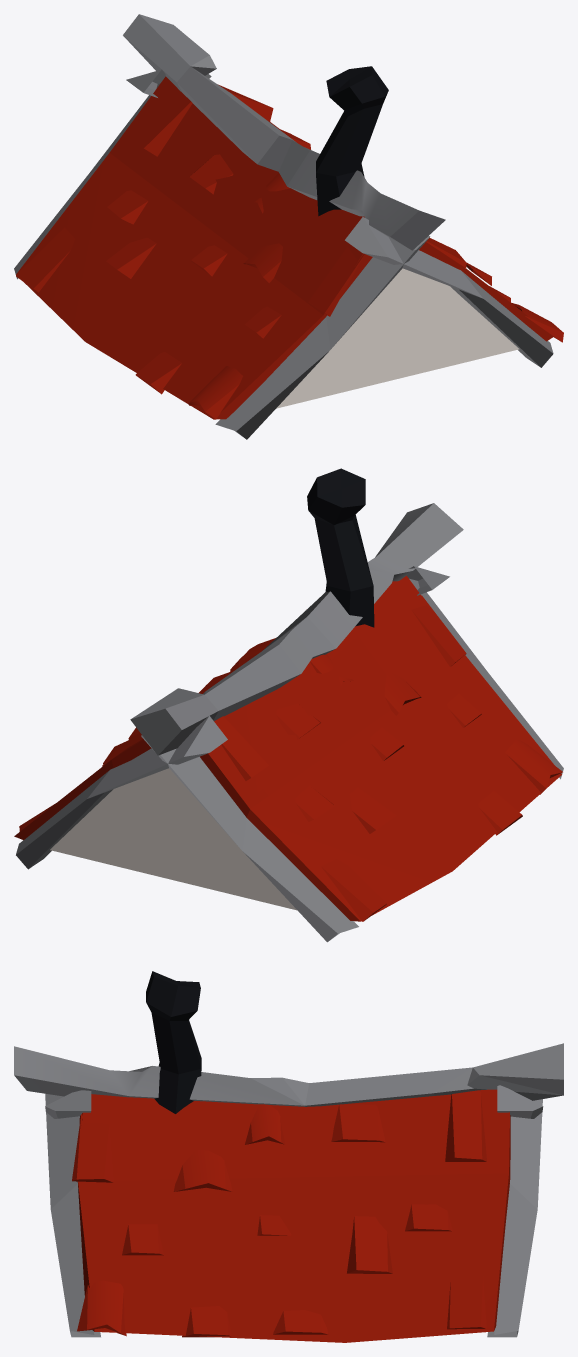
Rendered from SM_L_Modular_Roof_1.fbx.
3 views of the same model, one above another, from view 1: azimuth 30°, elevation 25°; view 2: azimuth 150°, elevation 25°; view 3: azimuth 270°, elevation 25° (orthographic).
Visible parts, largest first — view 1: SM_Roof; view 2: SM_Roof; view 3: SM_Roof.
Boxes of the visible parts, bbox=[...] form: SM_Roof: bbox=[14, 14, 563, 439]; SM_Roof: bbox=[14, 468, 563, 942]; SM_Roof: bbox=[14, 971, 563, 1342].
Size of the model in its own units: 386 by 303 by 508.
